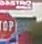stop: (0, 6, 16, 42)
